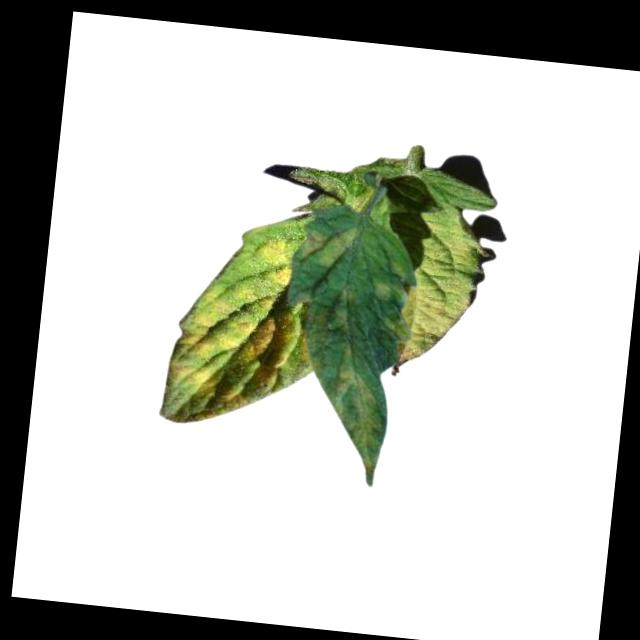Leaf_Mold: (161, 276, 317, 436), (391, 216, 486, 371), (326, 338, 394, 476), (300, 225, 366, 274), (253, 231, 297, 288), (330, 284, 358, 333)
